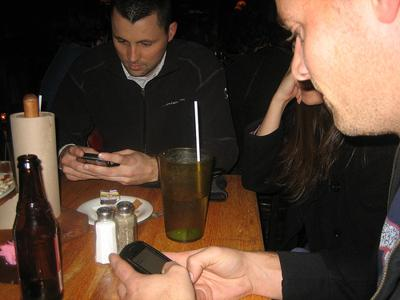person: (44, 2, 208, 188)
